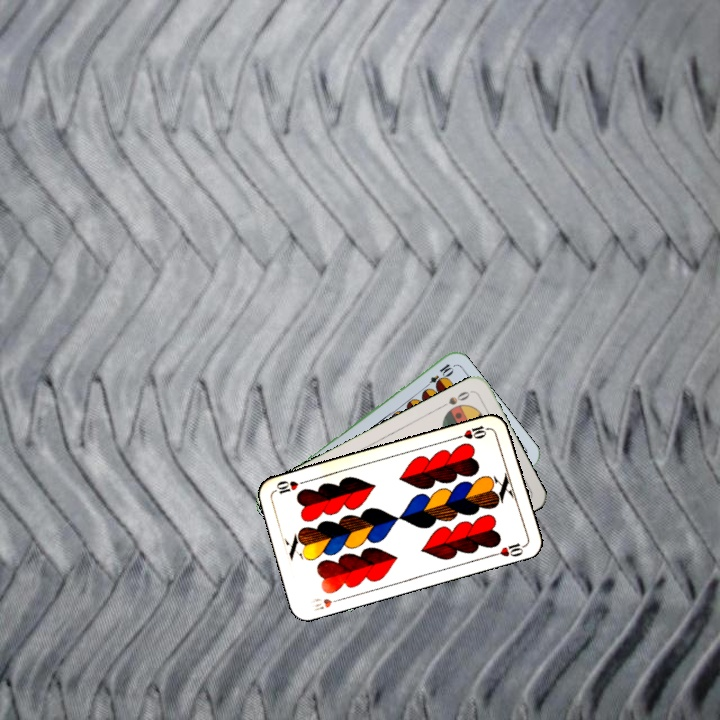E10: (420, 360, 456, 392)
H10: (453, 421, 493, 442), (310, 594, 346, 614)
SO: (437, 387, 472, 410)
